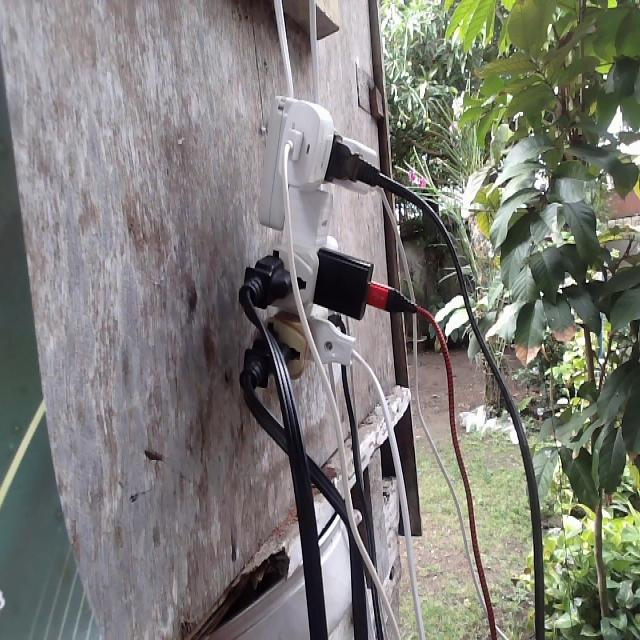-: (228, 92, 392, 403)
